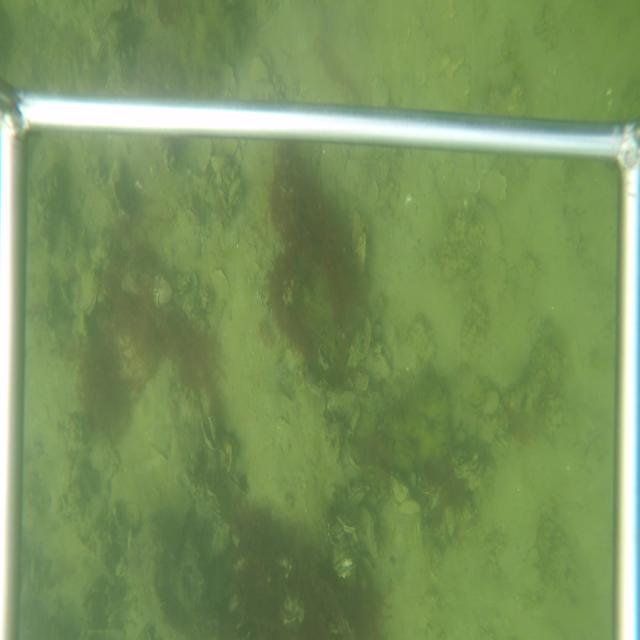Oyster-Closed: (347, 488, 365, 506)
Oyster-Indeterminate: (349, 214, 371, 277), (356, 505, 379, 560), (396, 498, 421, 515)
Oyster-Open: (249, 47, 273, 82), (200, 413, 219, 452), (417, 484, 437, 495)
